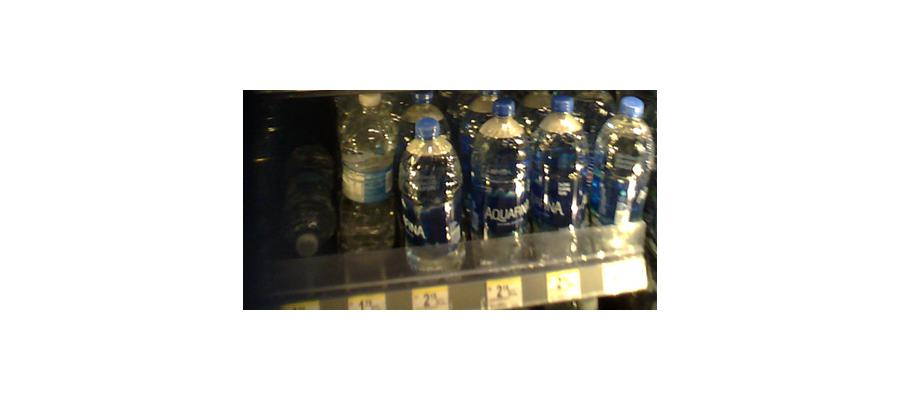bottle: (339, 89, 399, 275), (468, 96, 530, 269), (401, 116, 463, 279), (593, 93, 650, 257), (530, 95, 586, 261), (279, 107, 337, 267)
